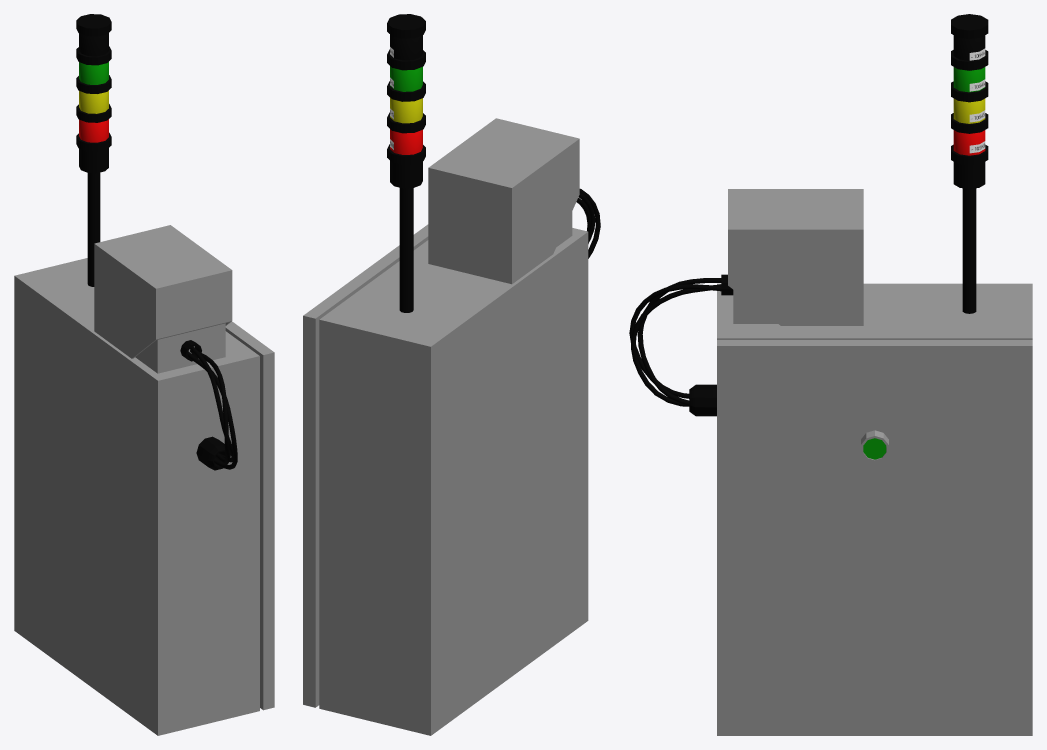
File: Signal Box Machine.fbx
3 views of the same model, side by side, from view 1: azimuth 30°, elevation 25°; view 2: azimuth 150°, elevation 25°; view 3: azimuth 270°, elevation 25° (orthographic). The views are drawn at different scales.
Parts seen in each view (by area): view 1: _pCube766, _pCube768, _pCube767, _pCube769, _sweep20, _pCylinder851, _pCylinder852, _pCylinder859, _pCylinder847, _polySurface2377, _pCylinder860, _yellow_light (+1 smaller); view 2: _pCube766, _pCube768, _pCube767, _pCylinder851, _pCylinder852, _pCylinder859, _sweep20, _yellow_light, _pCylinder860, _polySurface2377, _green_light; view 3: _pCube767, _pCube768, _pCube766, _sweep20, _pCylinder851, _pCylinder852, _pCylinder847, _pCylinder859, _pCube769.
Part boxes in pixels (box(x1,y1,x2,y2)): _pCube766: box(14, 258, 259, 735); _pCube768: box(94, 225, 232, 358); _pCube767: box(225, 321, 274, 710); _pCube769: box(135, 323, 225, 373); _sweep20: box(187, 346, 237, 469); _pCylinder851: box(87, 172, 100, 286); _pCylinder852: box(76, 132, 111, 173); _pCylinder859: box(76, 14, 111, 36); _pCylinder847: box(196, 436, 230, 470); _polySurface2377: box(79, 119, 108, 142); _pCylinder860: box(79, 33, 108, 56); _yellow_light: box(79, 90, 108, 113); _pCube766: box(319, 228, 588, 735); _pCube768: box(428, 118, 579, 284); _pCube767: box(303, 224, 428, 707); _pCylinder851: box(399, 188, 413, 312); _pCylinder852: box(387, 144, 425, 188); _pCylinder859: box(387, 14, 425, 38); _sweep20: box(576, 188, 600, 258); _yellow_light: box(390, 97, 422, 123); _pCylinder860: box(390, 34, 422, 60); _polySurface2377: box(390, 129, 422, 154); _green_light: box(390, 66, 422, 91); _pCube767: box(717, 340, 1032, 735); _pCube768: box(728, 189, 863, 325); _pCube766: box(717, 283, 1032, 339); _sweep20: box(629, 278, 721, 406); _pCylinder851: box(962, 188, 976, 313); _pCylinder852: box(951, 144, 988, 188); _pCylinder847: box(689, 384, 716, 416); _pCylinder859: box(951, 14, 988, 39); _pCube769: box(733, 290, 777, 323).
Size of the model in its own units: 22.46 by 104 by 56.24.
7 materials, 1 textured.
